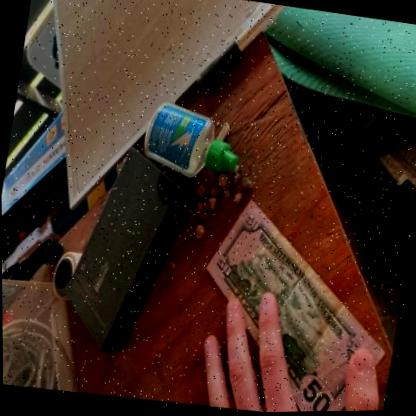dollar_back: (206, 200, 384, 413)
